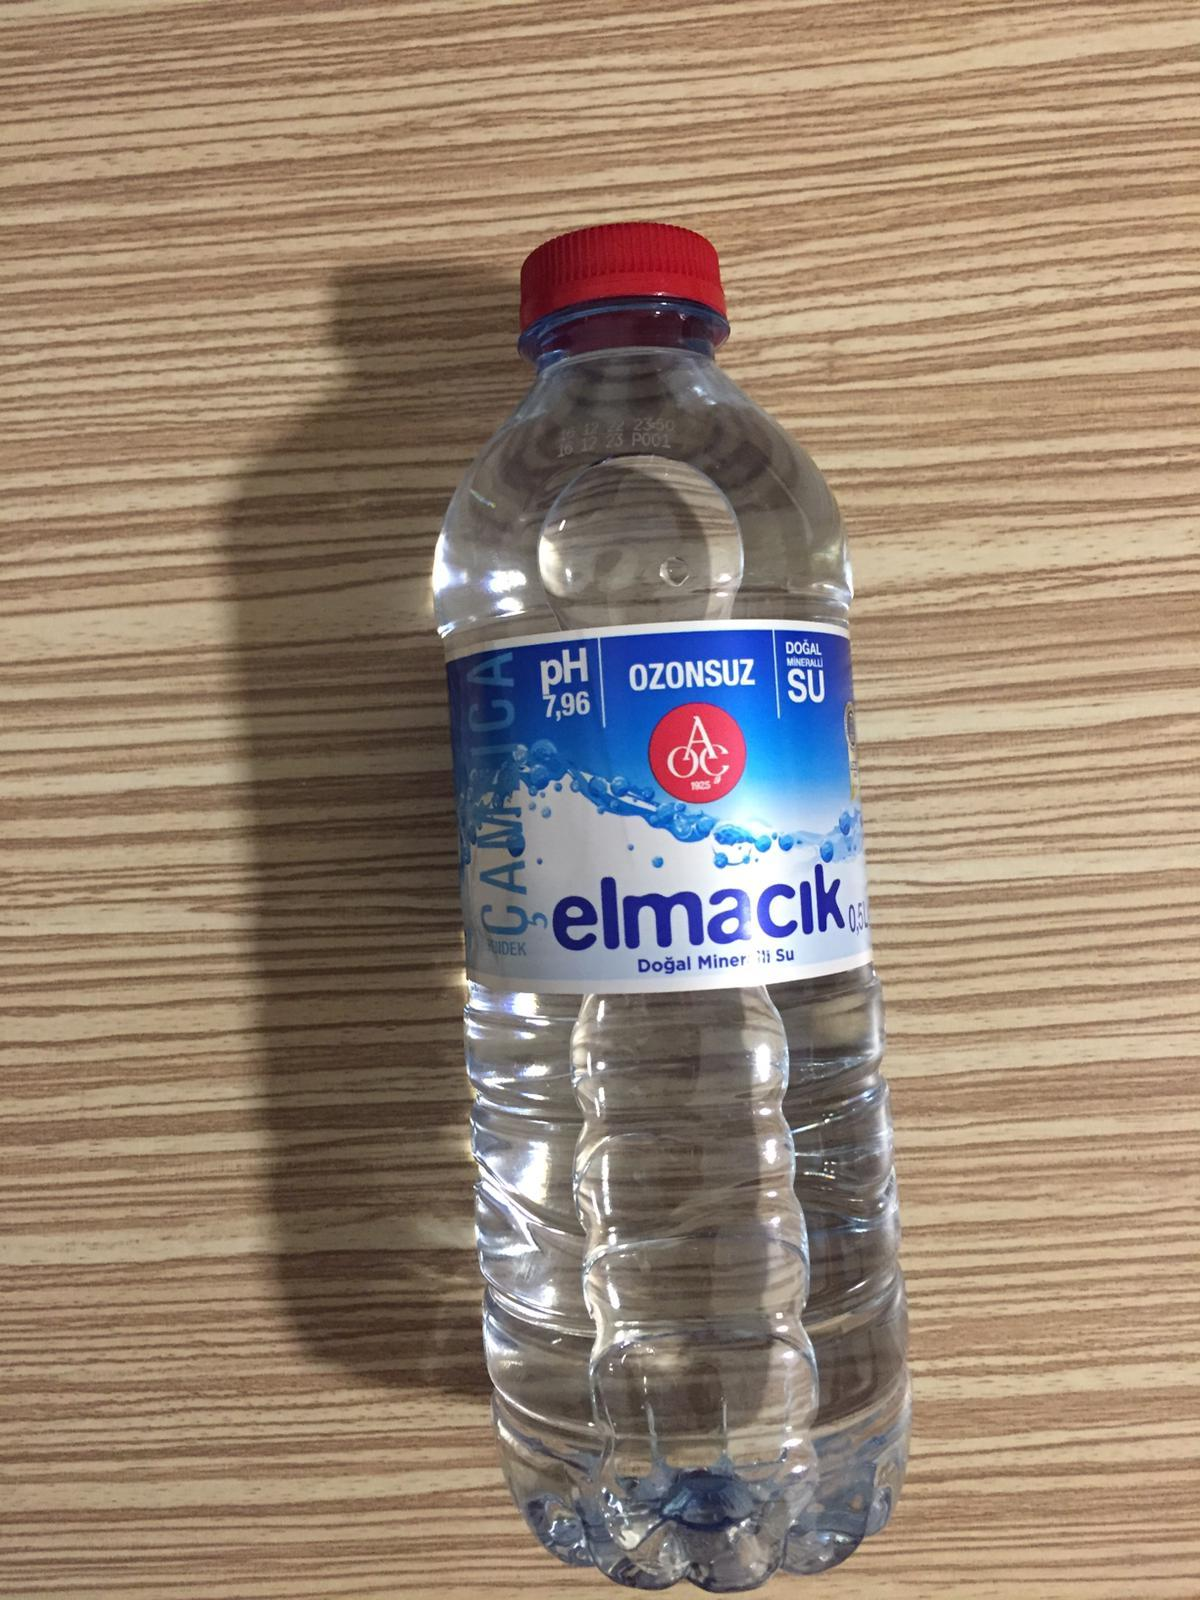bottle: (418, 215, 914, 1590)
